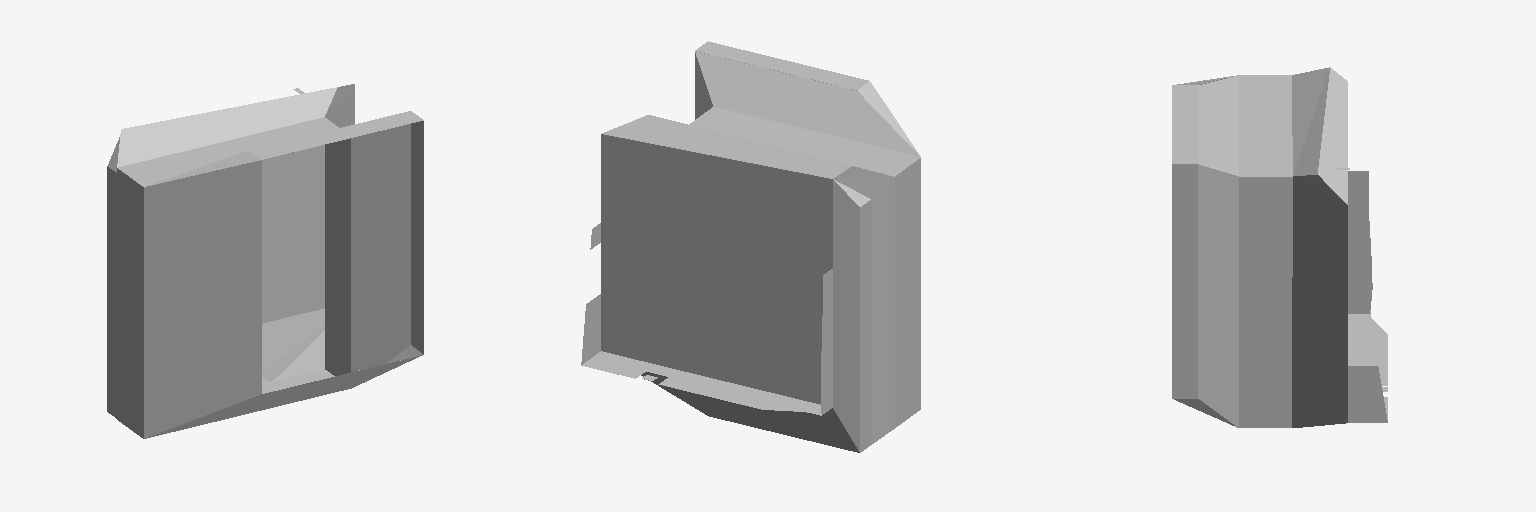
The model's file is glass.obj.
3 renders of one model, left to right at view 1: azimuth 30°, elevation 25°; view 2: azimuth 150°, elevation 25°; view 3: azimuth 270°, elevation 25°, orthographic.
Parts seen in each view (by area): view 1: glass; view 2: glass; view 3: glass.
Part boxes in pixels (left/top/right/bottom): glass: left=107, top=84, right=423, bottom=438; glass: left=581, top=41, right=920, bottom=452; glass: left=1172, top=67, right=1387, bottom=427.
Size of the model in its own units: 66.98 by 70.98 by 47.17.